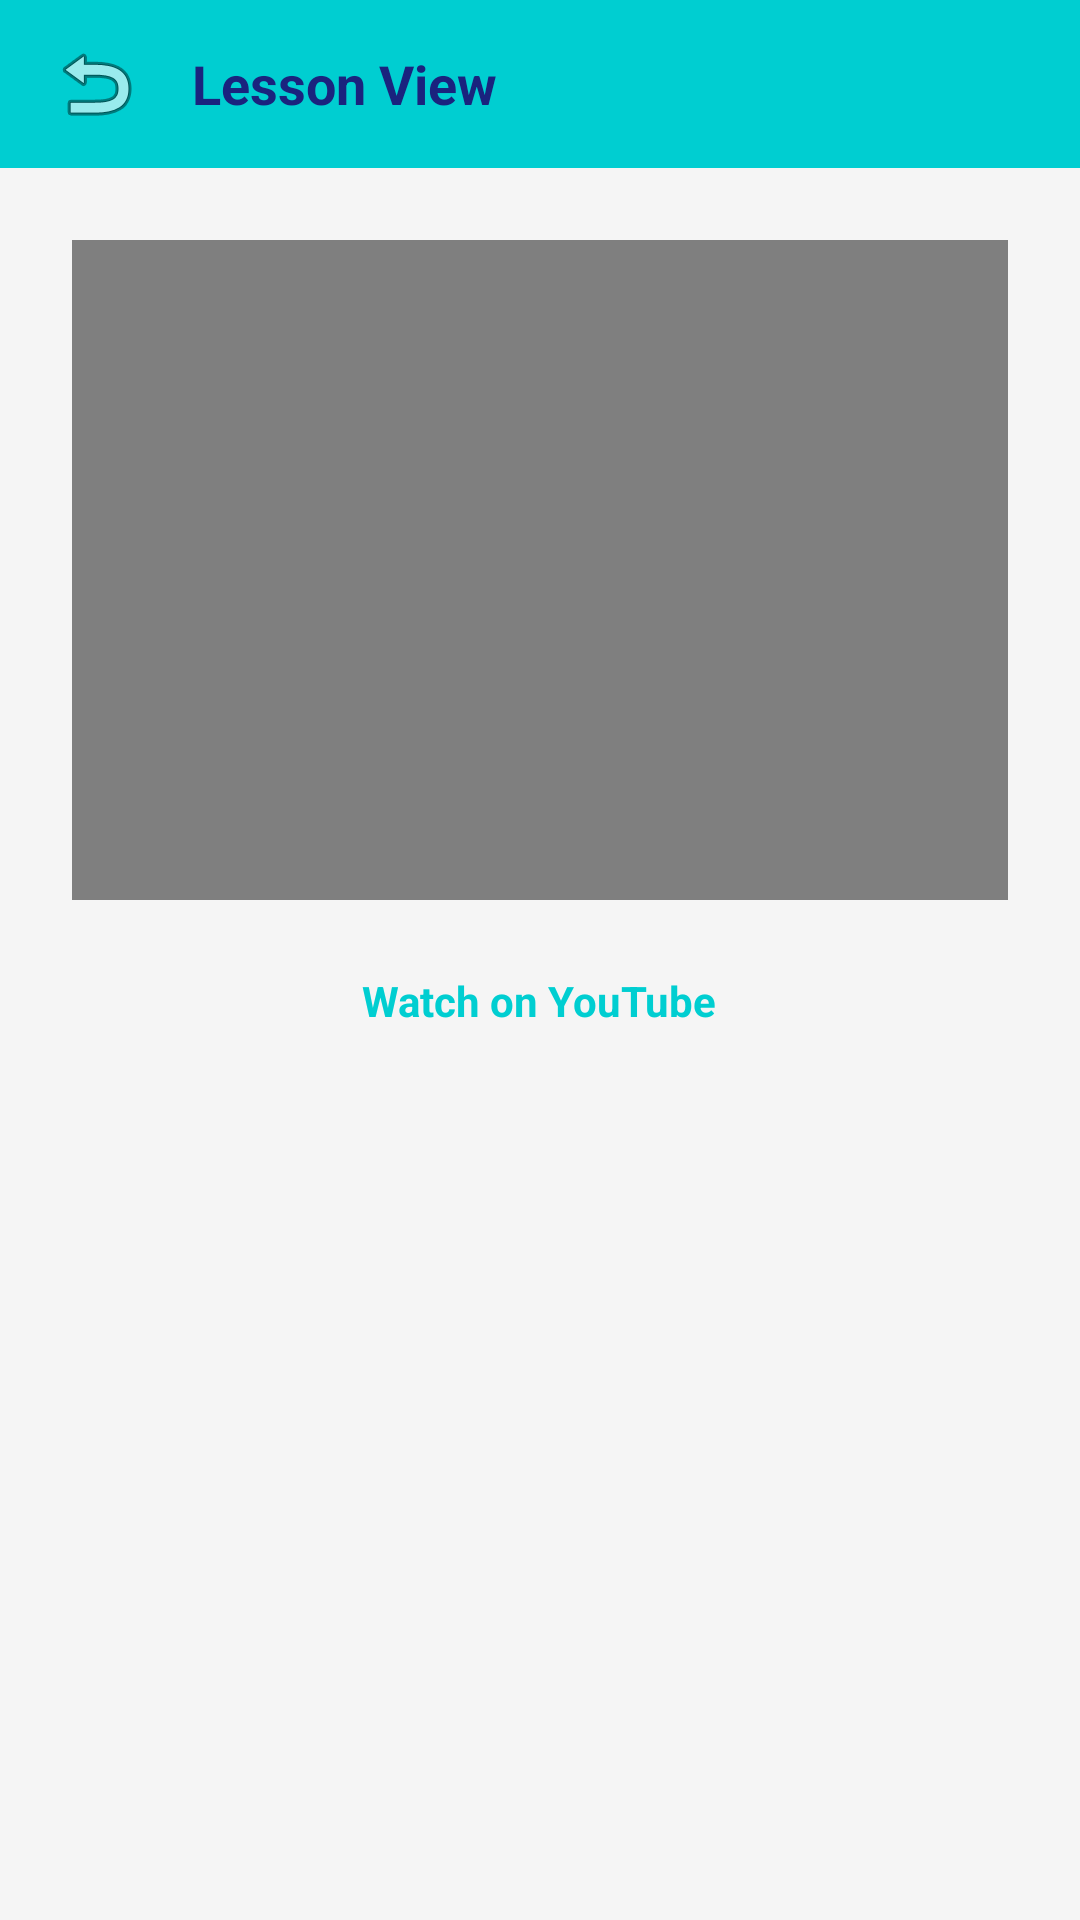

Screen size 1080px×1920px. Icon name, then its center in pixels as (x=x, y=y):
Back Button: (x=97, y=84)
